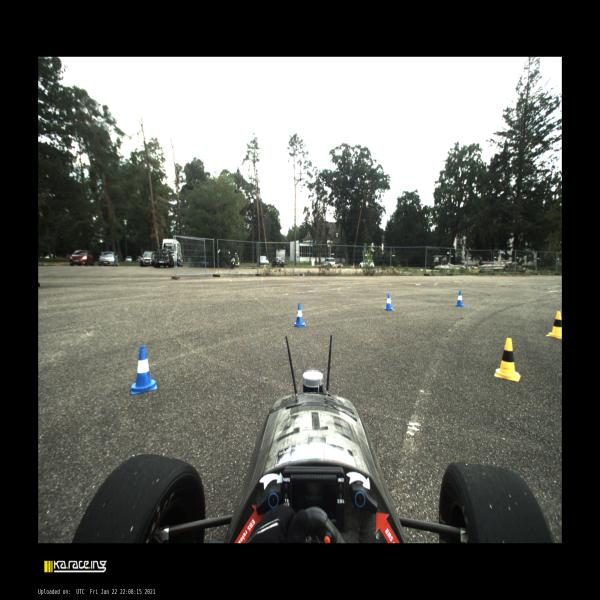blue_cone: (130, 345, 158, 395), (292, 303, 306, 327), (384, 292, 393, 310), (455, 291, 464, 307)
yellow_cone: (494, 338, 521, 381), (546, 311, 562, 339)
